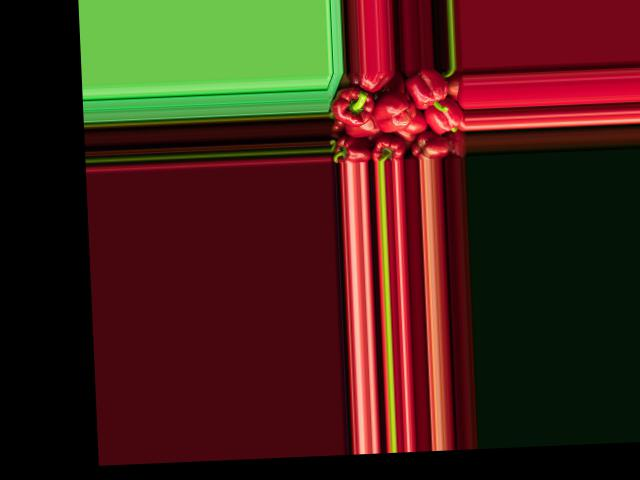bell_pepper: (332, 135, 369, 163)
